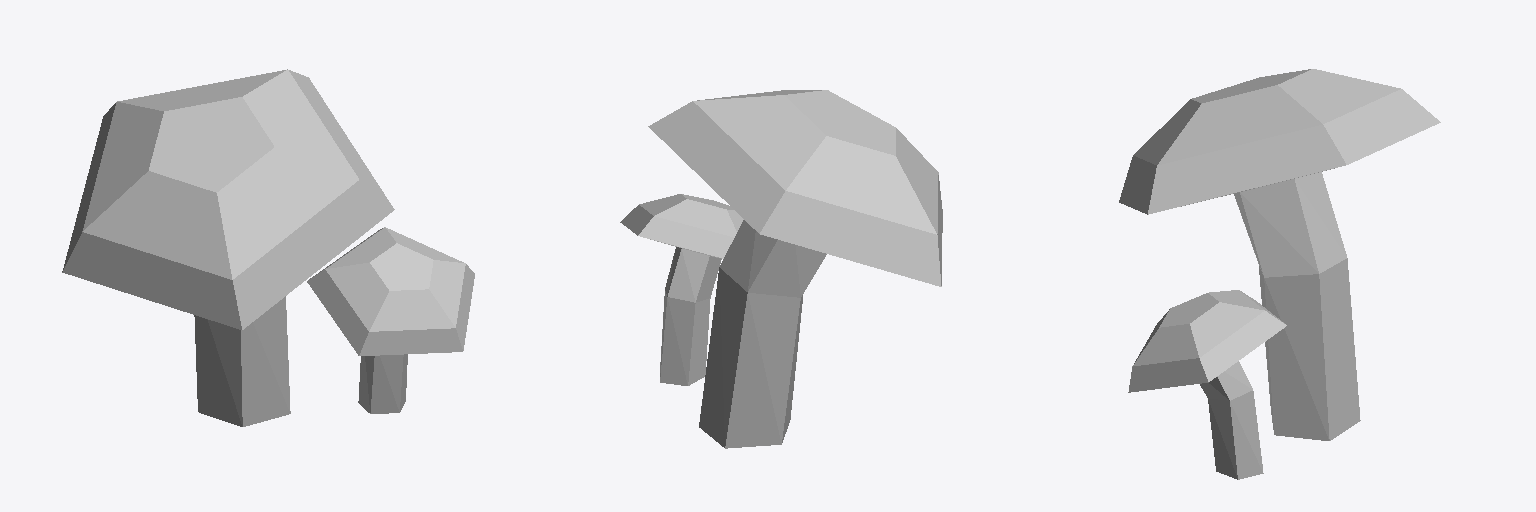
File: prop_v2_8.obj
The picture shows the model from 3 angles: view 1: azimuth 30°, elevation 25°; view 2: azimuth 150°, elevation 25°; view 3: azimuth 270°, elevation 25°; orthographic projection.
Visible parts, largest first — view 1: prop_v2_8_Cylinder.001; view 2: prop_v2_8_Cylinder.001; view 3: prop_v2_8_Cylinder.001.
Part boxes in pixels (x1,y1,x2,y2): prop_v2_8_Cylinder.001: (62, 69, 474, 426); prop_v2_8_Cylinder.001: (620, 90, 942, 448); prop_v2_8_Cylinder.001: (1119, 69, 1440, 479).
Bounding box in the file's own units: 0.2104 × 0.1792 × 0.1599.